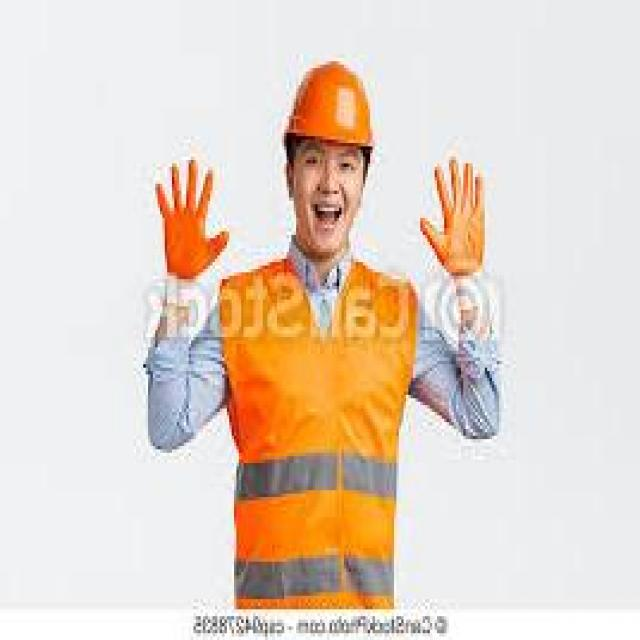Reflective-Jacket: (210, 248, 425, 610)
Safety-Helmet: (277, 51, 384, 160)
